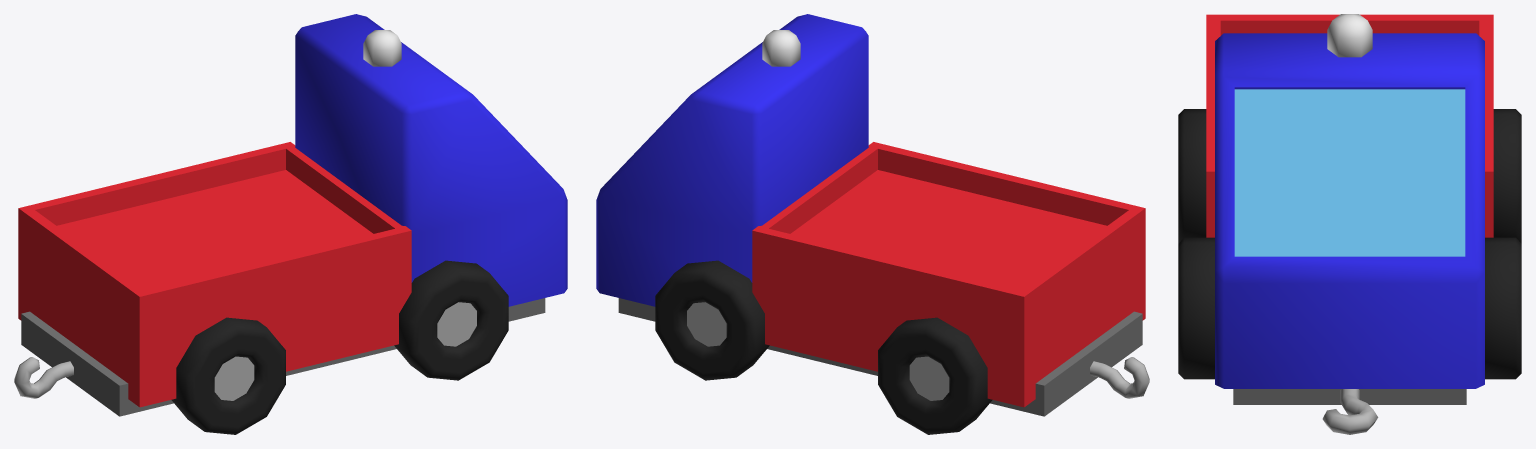
File: lethal_drone_car.fbx
3 renders of one model, left to right at view 1: azimuth 30°, elevation 25°; view 2: azimuth 150°, elevation 25°; view 3: azimuth 270°, elevation 25°, orthographic. The views are drawn at different scales.
Visible parts, largest first — view 1: Cube, Cube.001, Cylinder.001, Cube.002, Circle.001, Cylinder; view 2: Cube, Cube.001, Cylinder.001, Cube.002, Circle.001, Cylinder; view 3: Cube.001, Cylinder.001, Cube, Cube.002, Cylinder, Circle.
Boxes of the visible parts, x1,y1,x2,y2 form: Cube: (18,142,411,407); Cube.001: (295,14,567,306); Cylinder.001: (171,260,508,434); Cube.002: (21,298,545,416); Circle.001: (14,357,73,398); Cylinder: (363,30,401,66); Cube: (752,142,1145,407); Cube.001: (596,14,868,306); Cylinder.001: (655,260,992,434); Cube.002: (618,298,1142,416); Circle.001: (1090,357,1149,398); Cylinder: (762,30,800,66); Cube.001: (1215,33,1484,388); Cylinder.001: (1178,109,1521,379); Cube: (1206,14,1493,237); Cube.002: (1233,389,1466,404); Cylinder: (1327,14,1372,57); Circle: (1322,389,1378,434).
Size of the model in its own units: 1039 by 541 by 475.
